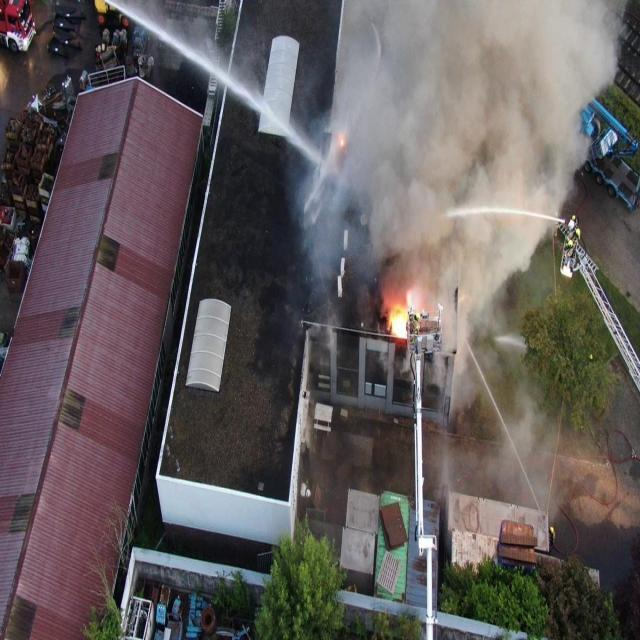Fire: (392, 315, 406, 338), (340, 139, 344, 146)
Smoke: (293, 0, 627, 420), (483, 368, 566, 526)
